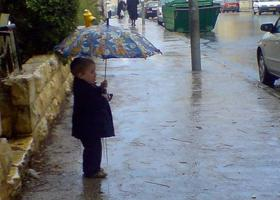person: (71, 57, 115, 178)
